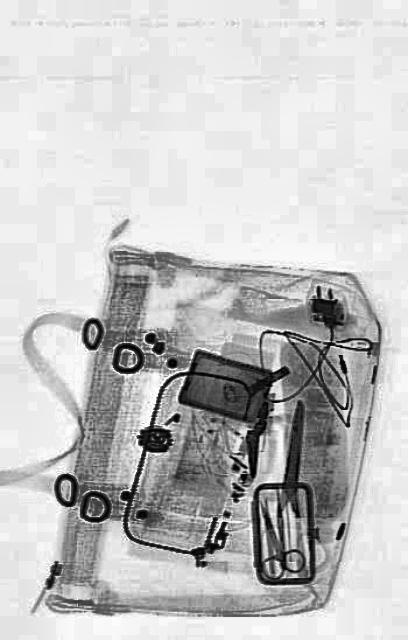Scissors: (242, 488, 306, 590)
